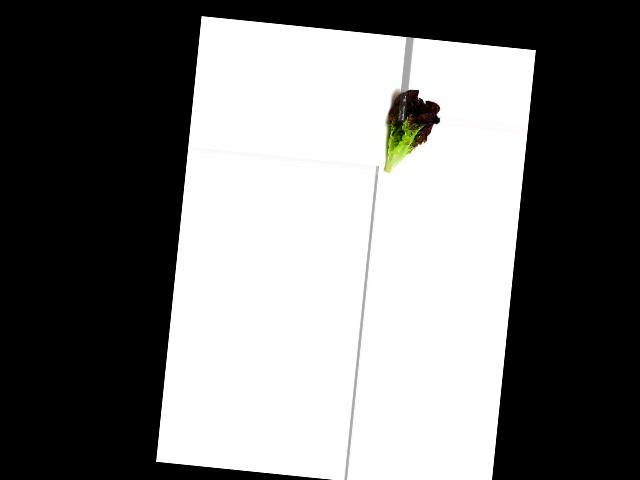lettuce: (378, 85, 443, 180)
